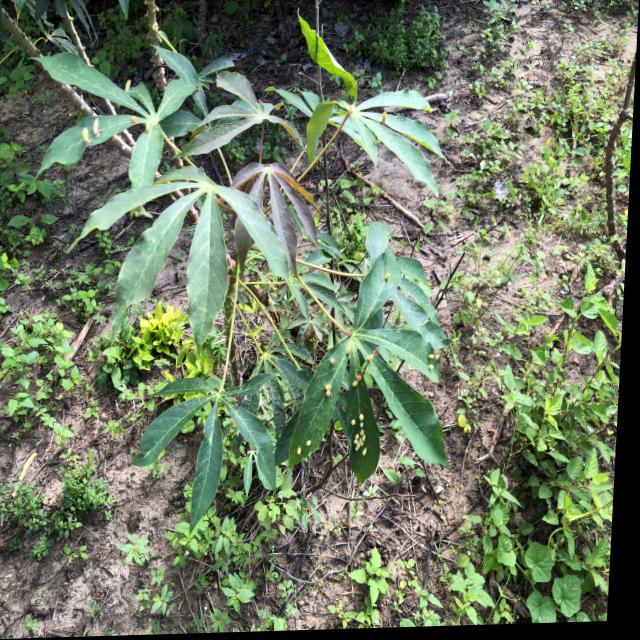Maleza: (465, 88, 622, 266), (2, 317, 104, 551), (470, 485, 612, 621)
Mosca: (351, 405, 373, 464), (76, 117, 105, 149), (419, 341, 444, 378), (107, 72, 137, 100), (293, 436, 317, 463), (378, 258, 400, 286), (364, 341, 379, 371), (323, 379, 342, 401), (341, 339, 362, 358), (349, 370, 367, 390), (323, 349, 336, 368)
